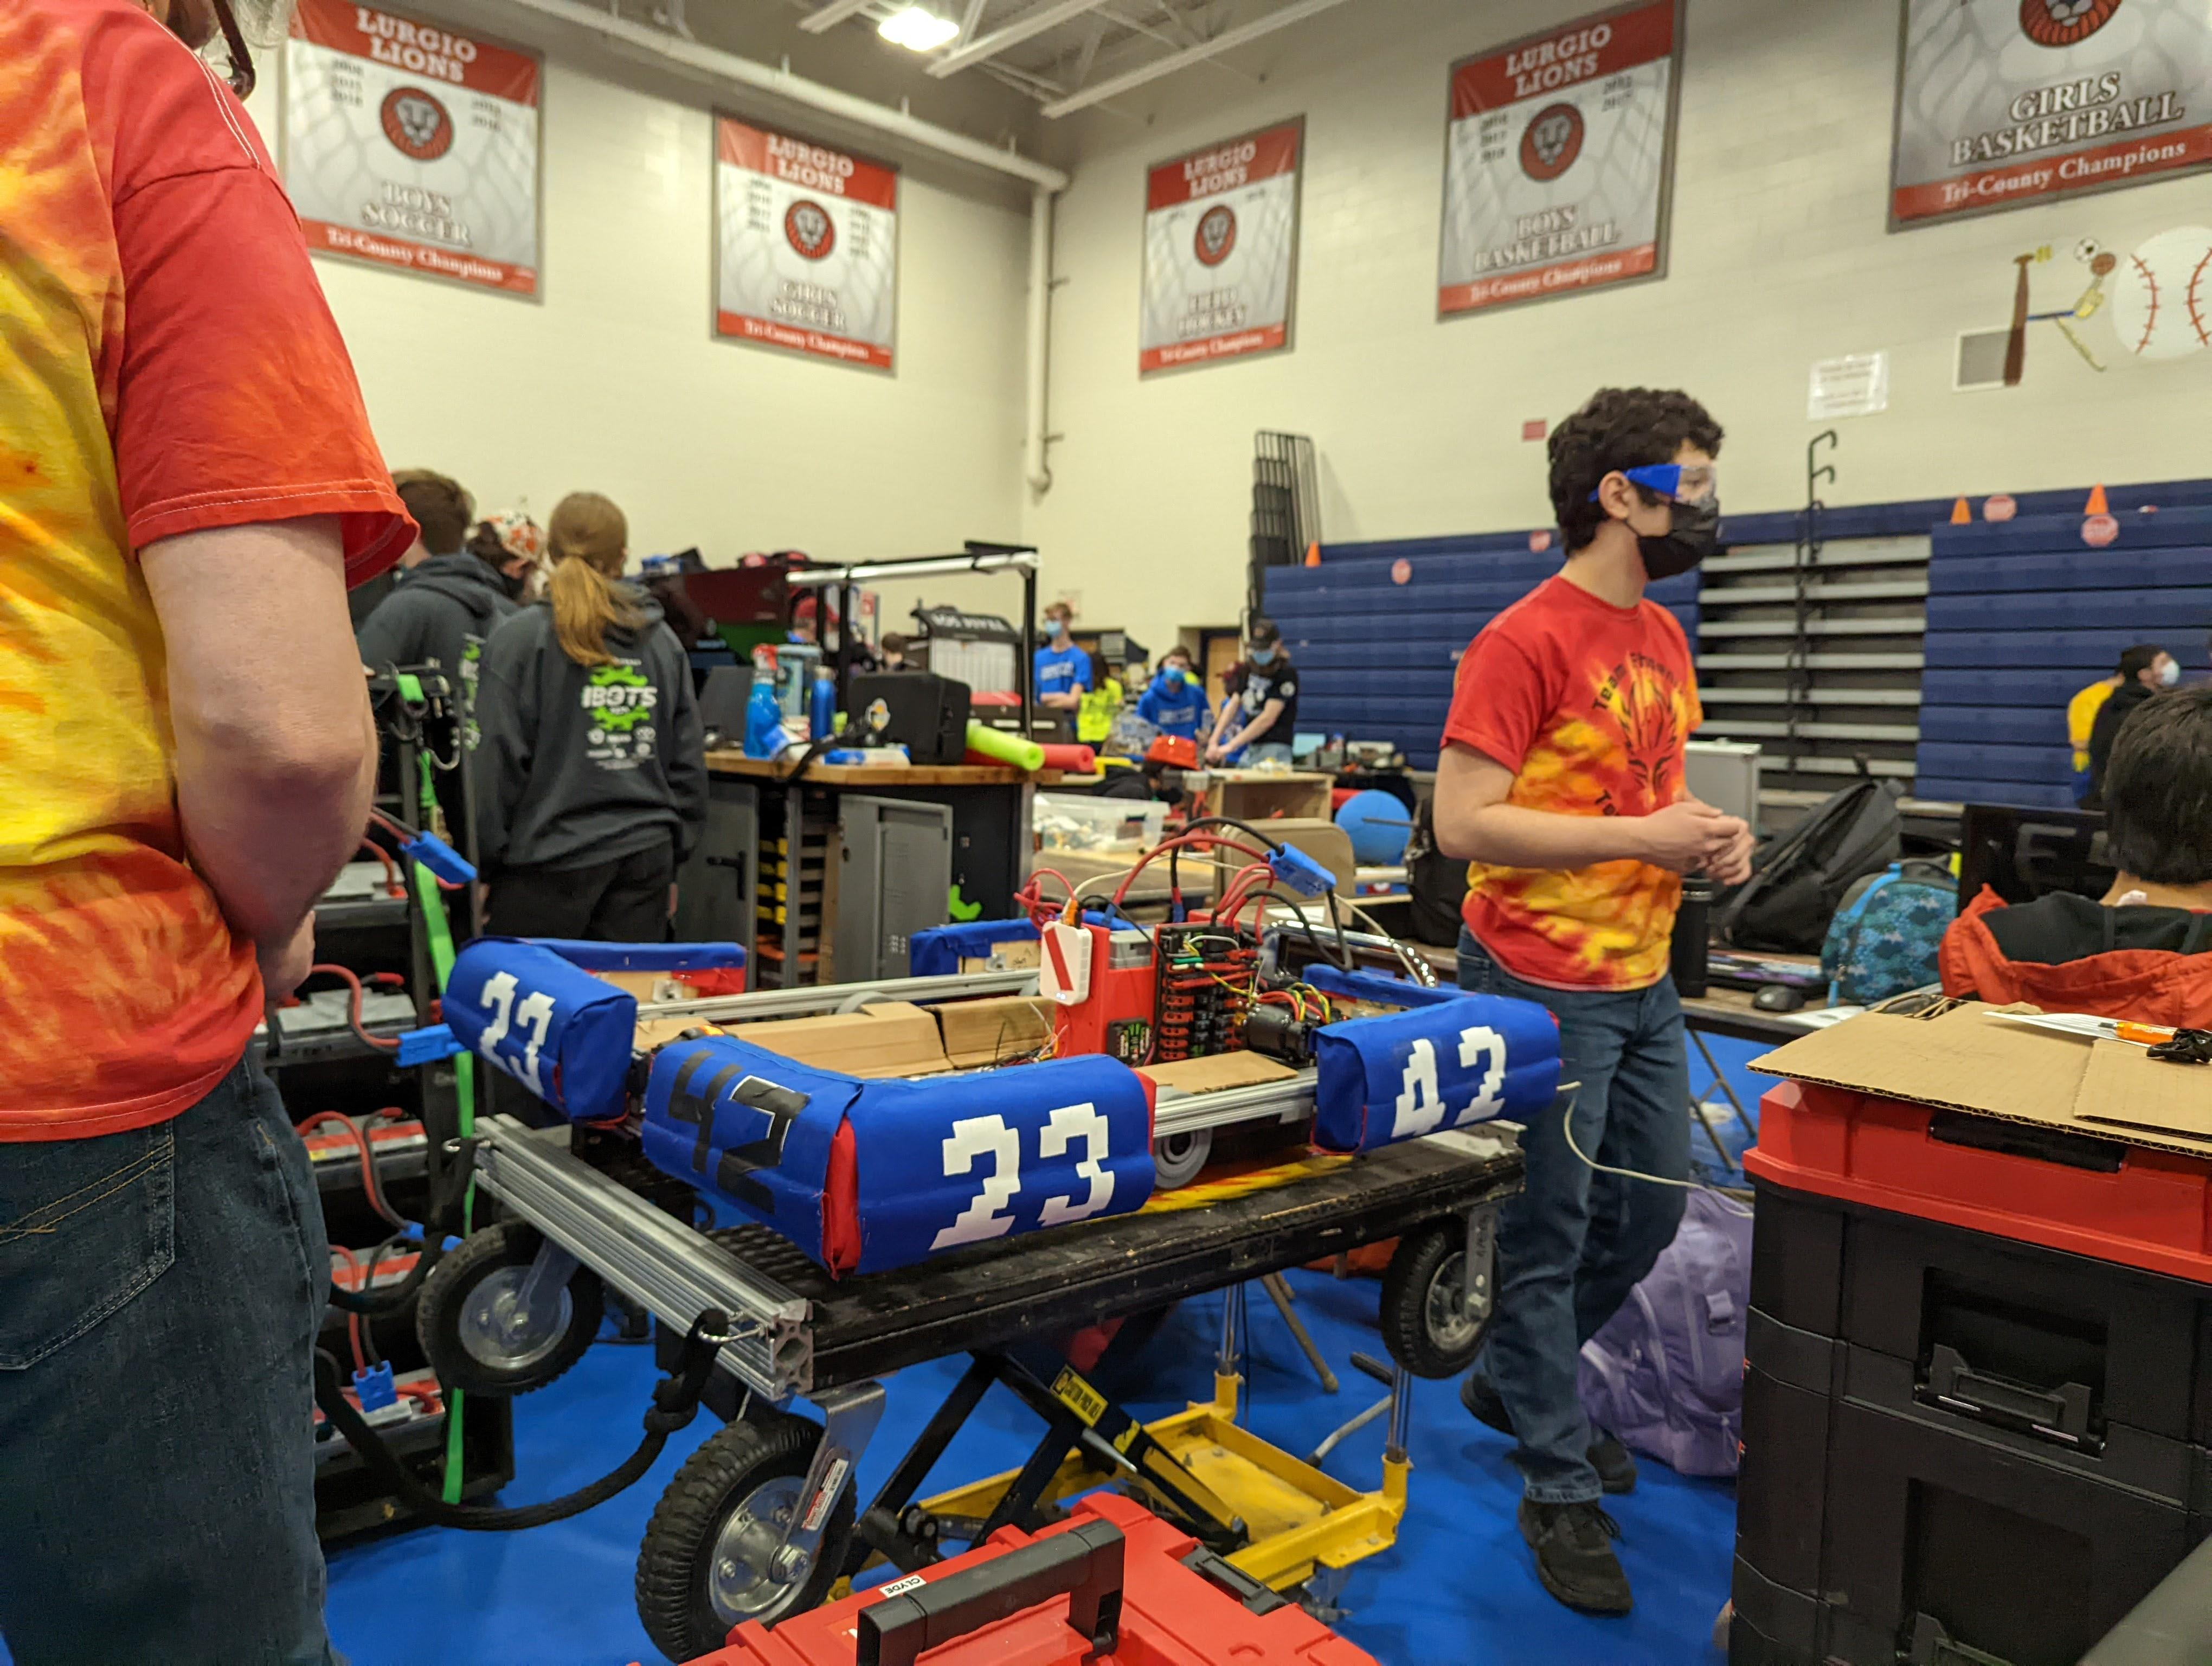robot: (437, 854, 1546, 1278)
